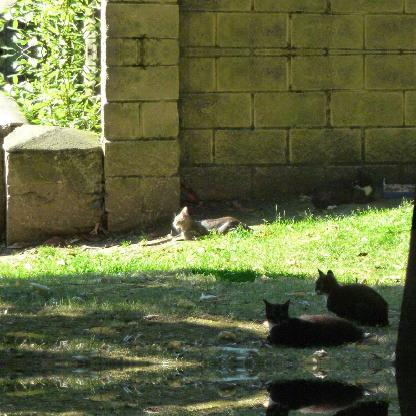Cat: (264, 298, 364, 350), (314, 269, 388, 325), (264, 378, 365, 415), (309, 168, 377, 210), (170, 206, 252, 240), (313, 403, 389, 415)
